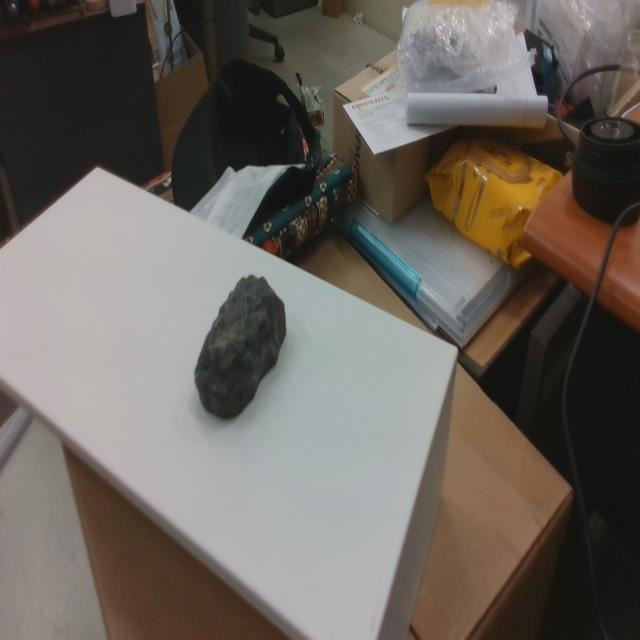stone: (195, 274, 286, 420)
